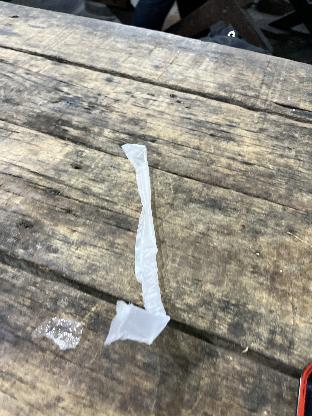Others: (105, 136, 170, 348), (40, 314, 86, 348)
